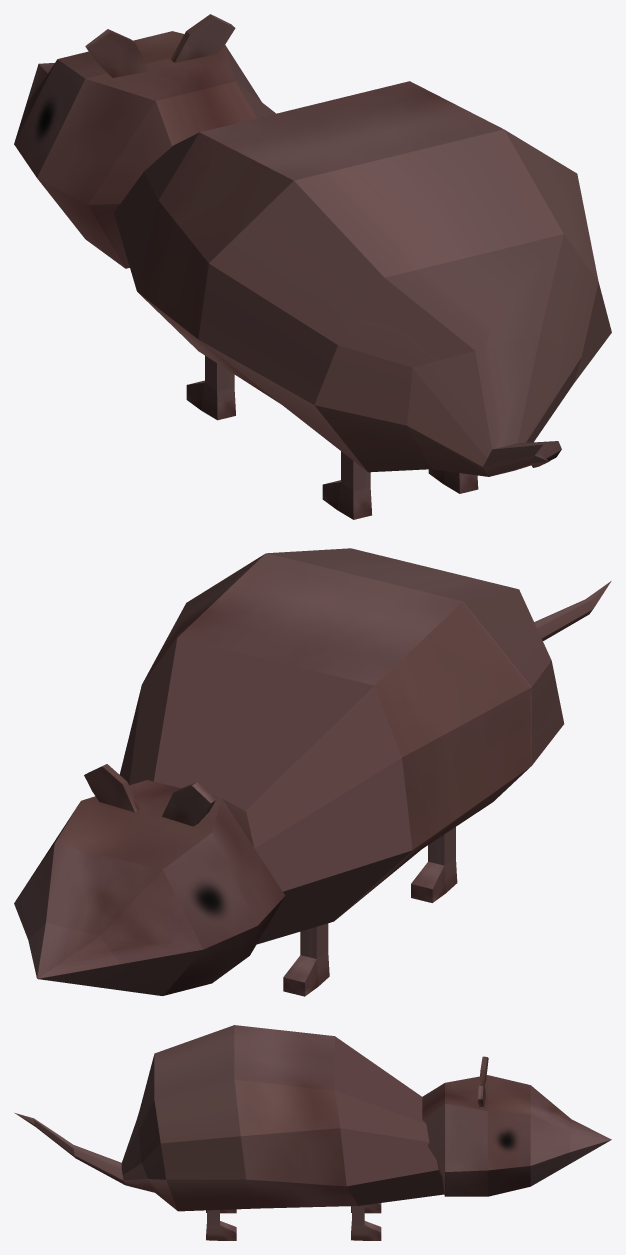
Rendered from rat.glb.
3 views of the same model, one above another, from view 1: azimuth 30°, elevation 25°; view 2: azimuth 150°, elevation 25°; view 3: azimuth 270°, elevation 25° (orthographic). The views are drawn at different scales.
Visible parts, largest first — view 1: Cube, ears.001, ears; view 2: Cube, ears, ears.001; view 3: Cube.
Boxes of the visible parts, <box> form: Cube: <box>14,31,611,519</box>; ears.001: <box>85,29,150,77</box>; ears: <box>170,14,235,62</box>; Cube: <box>14,548,611,996</box>; ears: <box>84,764,139,812</box>; ears.001: <box>162,782,215,826</box>; Cube: <box>15,1025,611,1240</box>.
Bounding box in the file's own units: 1.6 × 1.32 × 4.11.
Materials: 2 (2 with a texture image).
